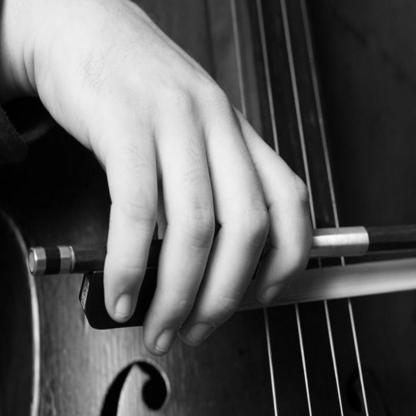good: (62, 48, 321, 365)
